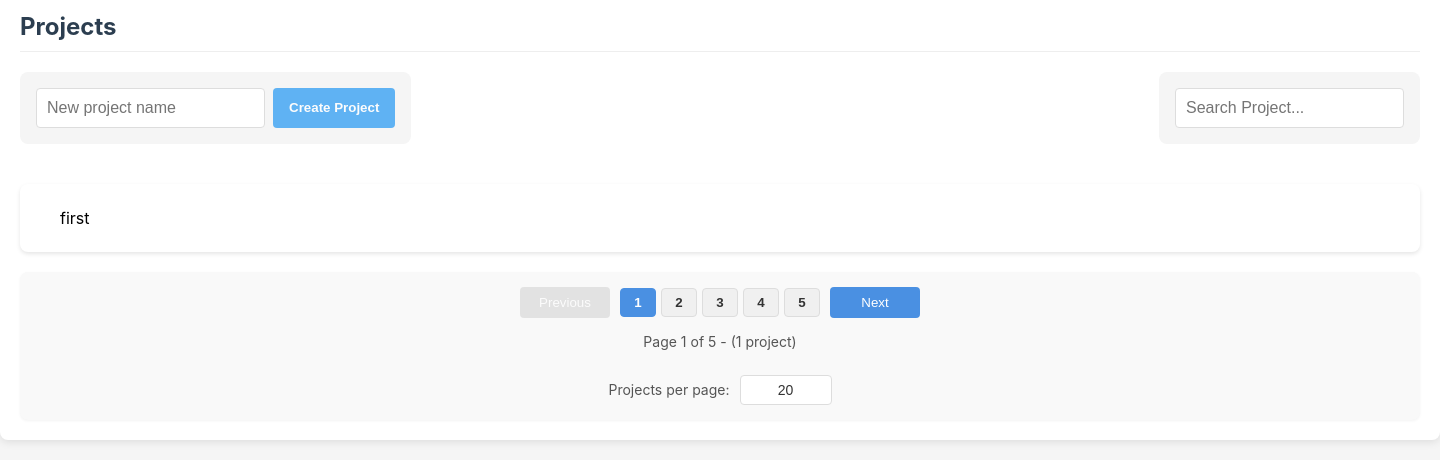
Test: ProjectOverview › ignores a late response for an older page
Expected: the text "first" is shown, [20,184,1420,252]
Click the button "2" at (679, 302), box [661,288,697,317]
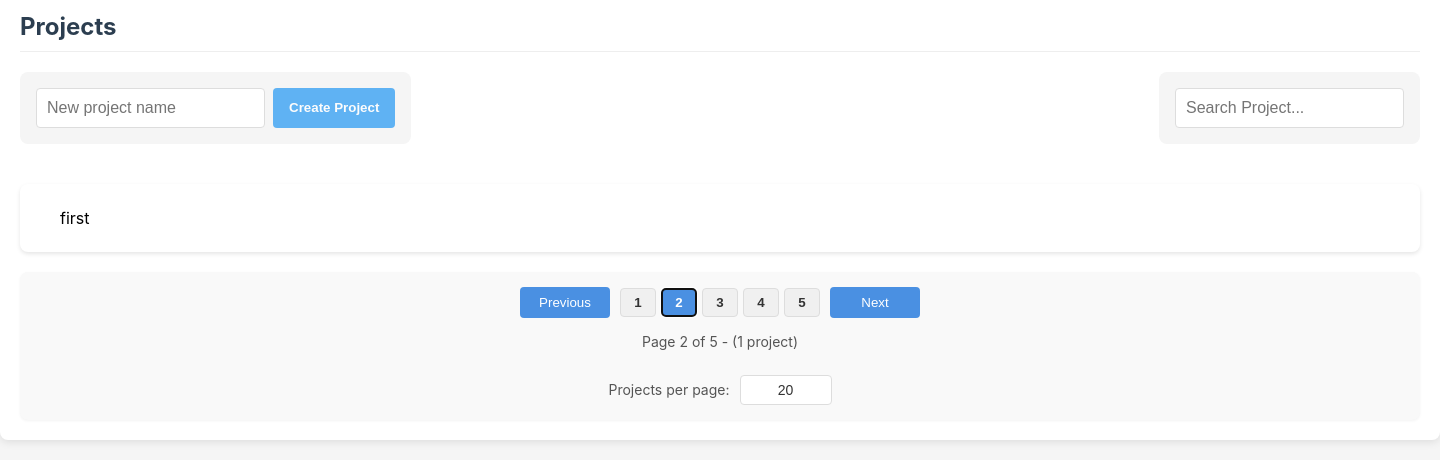
Click the button "3" at (720, 302), box [702,288,738,317]
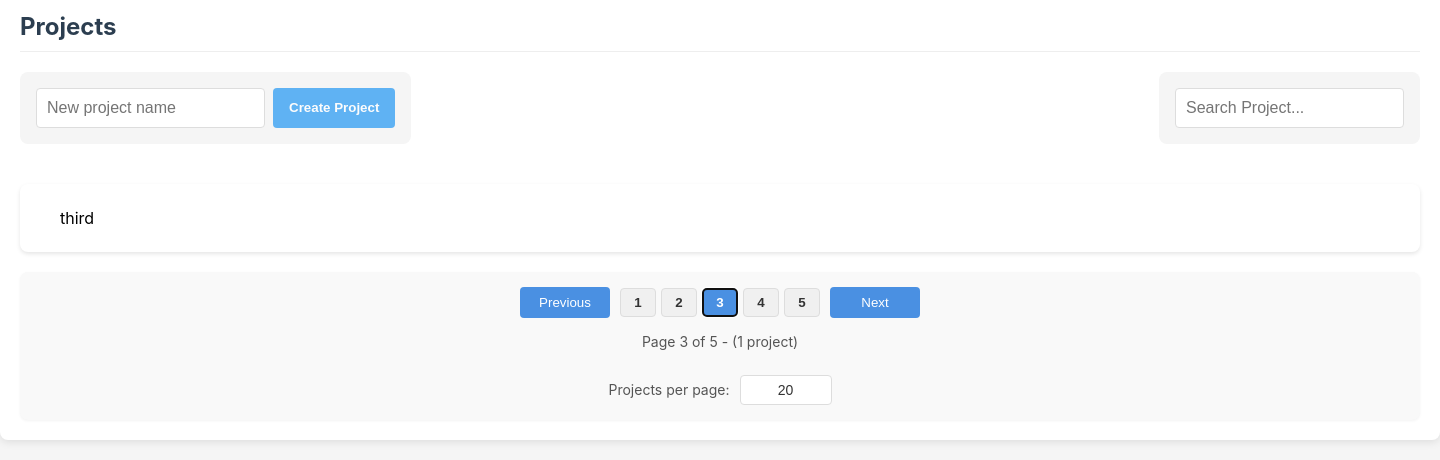
Now the text "third" is shown, box [20,184,1420,252]
